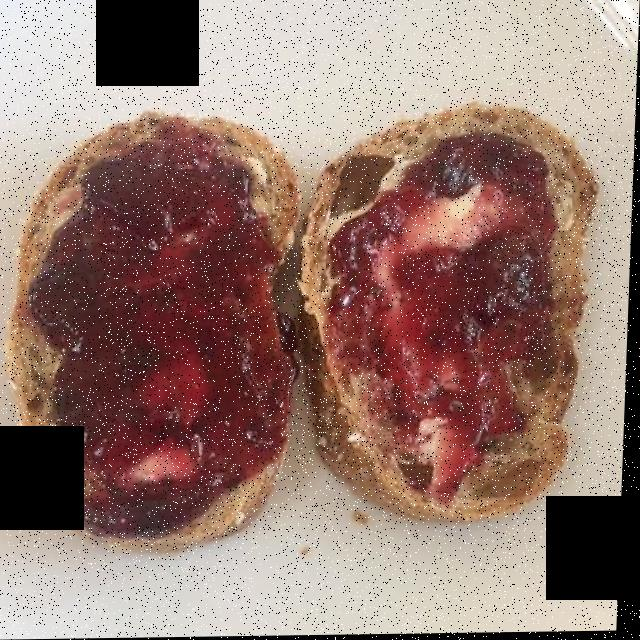bread-whole-wheat: (21, 122, 295, 544), (305, 112, 587, 514)
jam: (13, 120, 300, 545)
